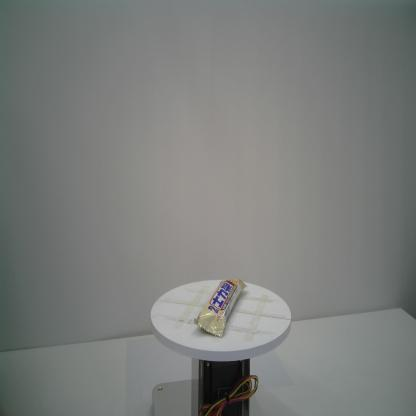Chocolate: (193, 277, 249, 339)
